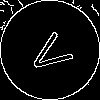V: (25, 25, 82, 79)
